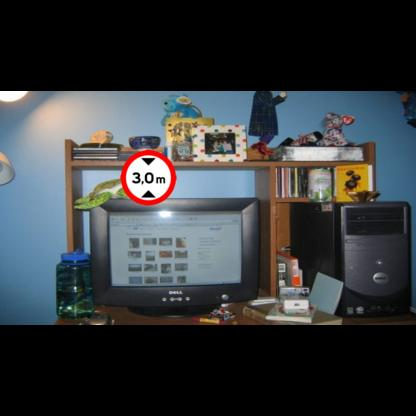R-15: (120, 150, 176, 205)
